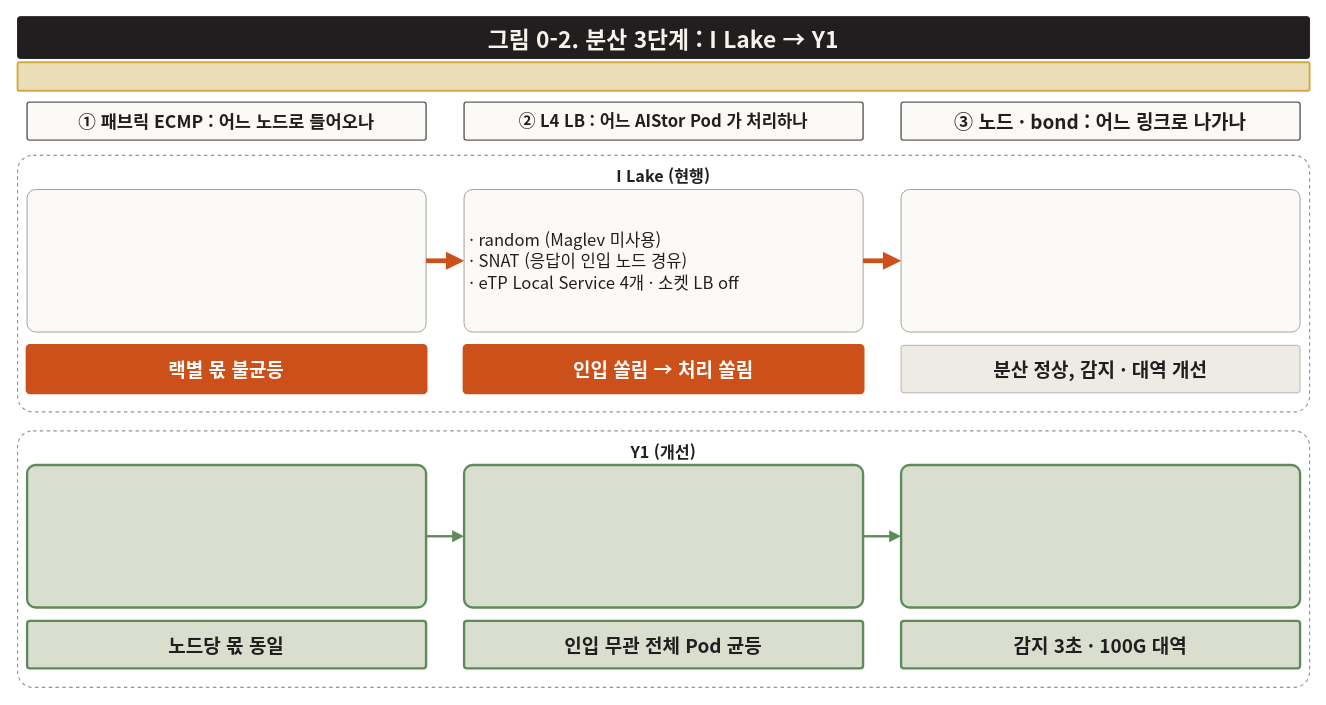
This 1326x705 diagram has some shape labels left out. Here are the shapes that lost their labels. From the top down, the centre of each, then its label:
point 663,76: 인입 노드(패브릭) · 백엔드(L4) · 송신 멤버(bond) 세 단계가 모두 고르게 나뉘어야 AIStor 전체가 고르게 일함
point 226,260: · 랙 혼재 → 랙마다 AIStor 수 다름 · igp-metric ignore 적용 · RD · maximum-paths : NW 확인 대기
point 1100,260: · 802.3ad · layer3+4 (정상) · LACP slow · MTU 1500 · cubic · 버퍼 25M · tuned 없음
point 226,535: · 역할별 랙 분리 · 랙당 동일 · RD 고유 · maximum-paths 64 · export-gateway-ip · resilient
point 663,535: · Maglev (AIStor VIP annotation) · DSR Geneve (응답 직접) · eTP Cluster · 소켓 LB on
point 1100,535: · 802.3ad · layer3+4 (유지) · LACP fast · MTU 9000 · BBR + fq · 128M · IRQ NUMA
